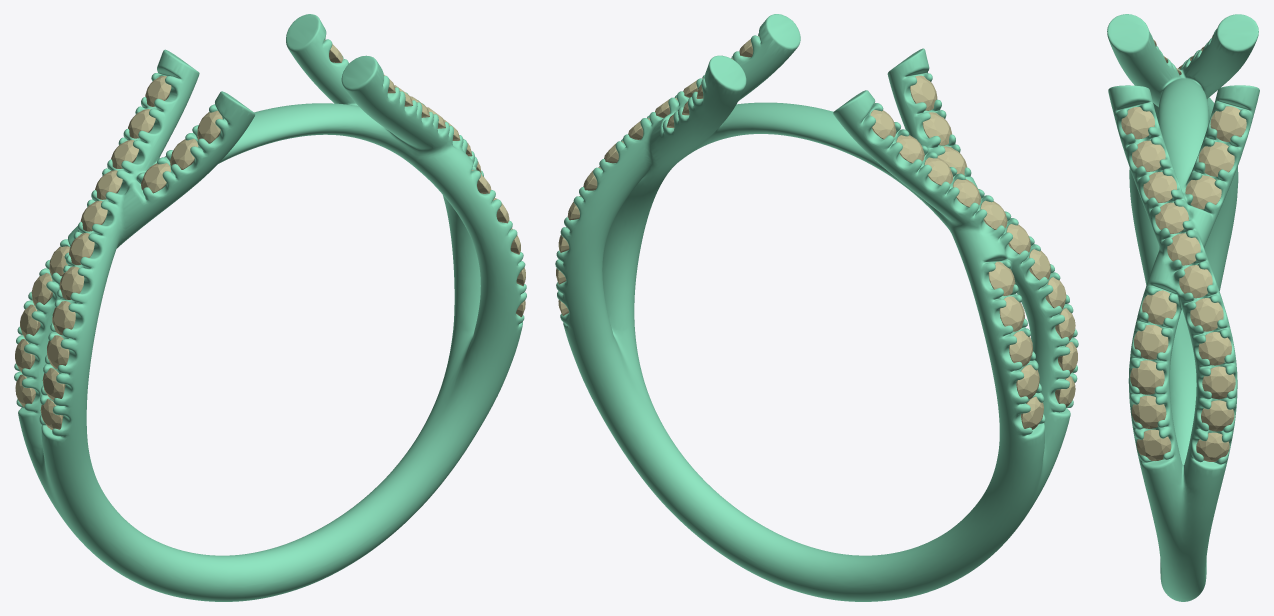
3 renders of one model, left to right at view 1: azimuth 30°, elevation 25°; view 2: azimuth 150°, elevation 25°; view 3: azimuth 270°, elevation 25°, orthographic. The views are drawn at different scales.
Parts seen in each view (by area): view 1: Metal02; view 2: Metal02; view 3: Metal02, Diamond_Gem.011, Diamond_Gem.015, Diamond_Gem.012, Diamond_Gem.016, Diamond_Gem.014, Diamond_Gem.013, Diamond_Gem.017, Diamond_Gem.004, Diamond_Gem.003, Diamond_Gem.005, Diamond_Gem.006 (+8 smaller).
Part boxes in pixels (x1=…): Metal02: x1=14, y1=14, x2=526, y2=601; Metal02: x1=555, y1=14, x2=1078, y2=601; Metal02: x1=1107, y1=14, x2=1259, y2=601; Diamond_Gem.011: x1=1210, y1=106, x2=1246, y2=141; Diamond_Gem.015: x1=1134, y1=325, x2=1168, y2=359; Diamond_Gem.012: x1=1198, y1=142, x2=1234, y2=176; Diamond_Gem.016: x1=1130, y1=360, x2=1164, y2=394; Diamond_Gem.014: x1=1142, y1=290, x2=1176, y2=324; Diamond_Gem.013: x1=1185, y1=175, x2=1221, y2=209; Diamond_Gem.017: x1=1131, y1=395, x2=1166, y2=428; Diamond_Gem.004: x1=1190, y1=298, x2=1223, y2=331; Diamond_Gem.003: x1=1198, y1=332, x2=1231, y2=365; Diamond_Gem.005: x1=1179, y1=265, x2=1212, y2=298; Diamond_Gem.006: x1=1167, y1=233, x2=1200, y2=265.
Bounding box in the file's own units: 21.08 × 22.52 × 5.91.
